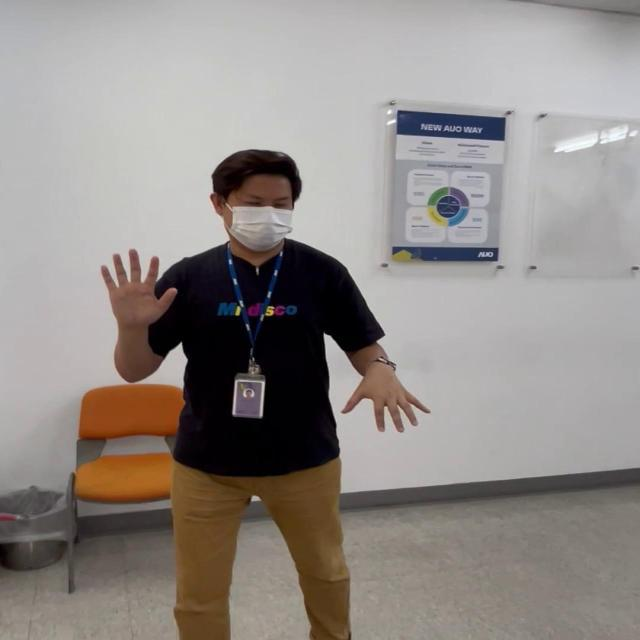bare_hand: (341, 360, 428, 436), (98, 246, 177, 326)
